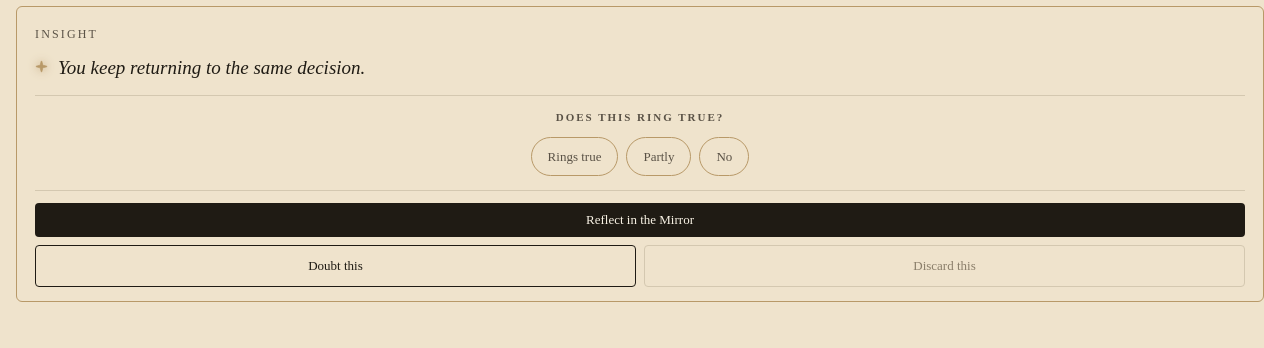
Test: answering › sends yes and confirms
Click the button "Rings true" at (574, 156), box [531,136,618,176]
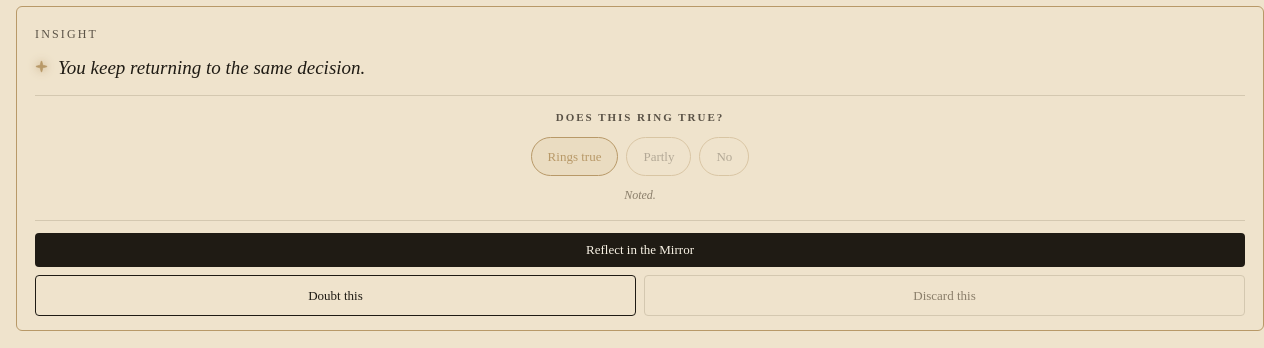
expect the text "Noted." is shown: met, box [624,186,656,206]
